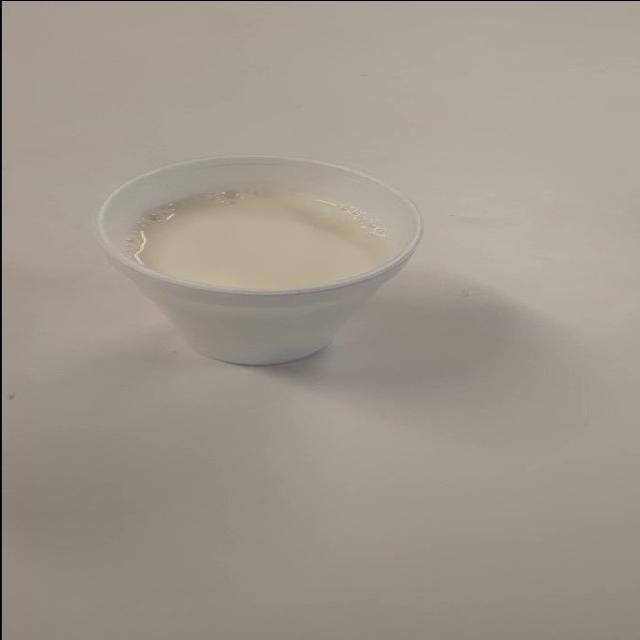Milk: (71, 135, 481, 401)
